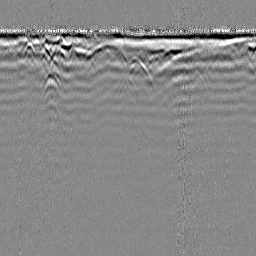cavity: (112, 55, 154, 91)
